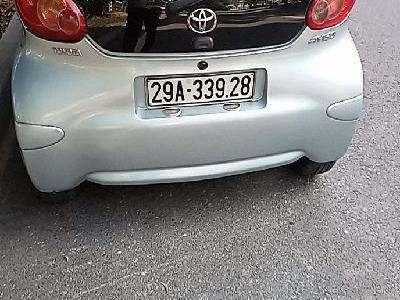lisence: (142, 67, 256, 110)
